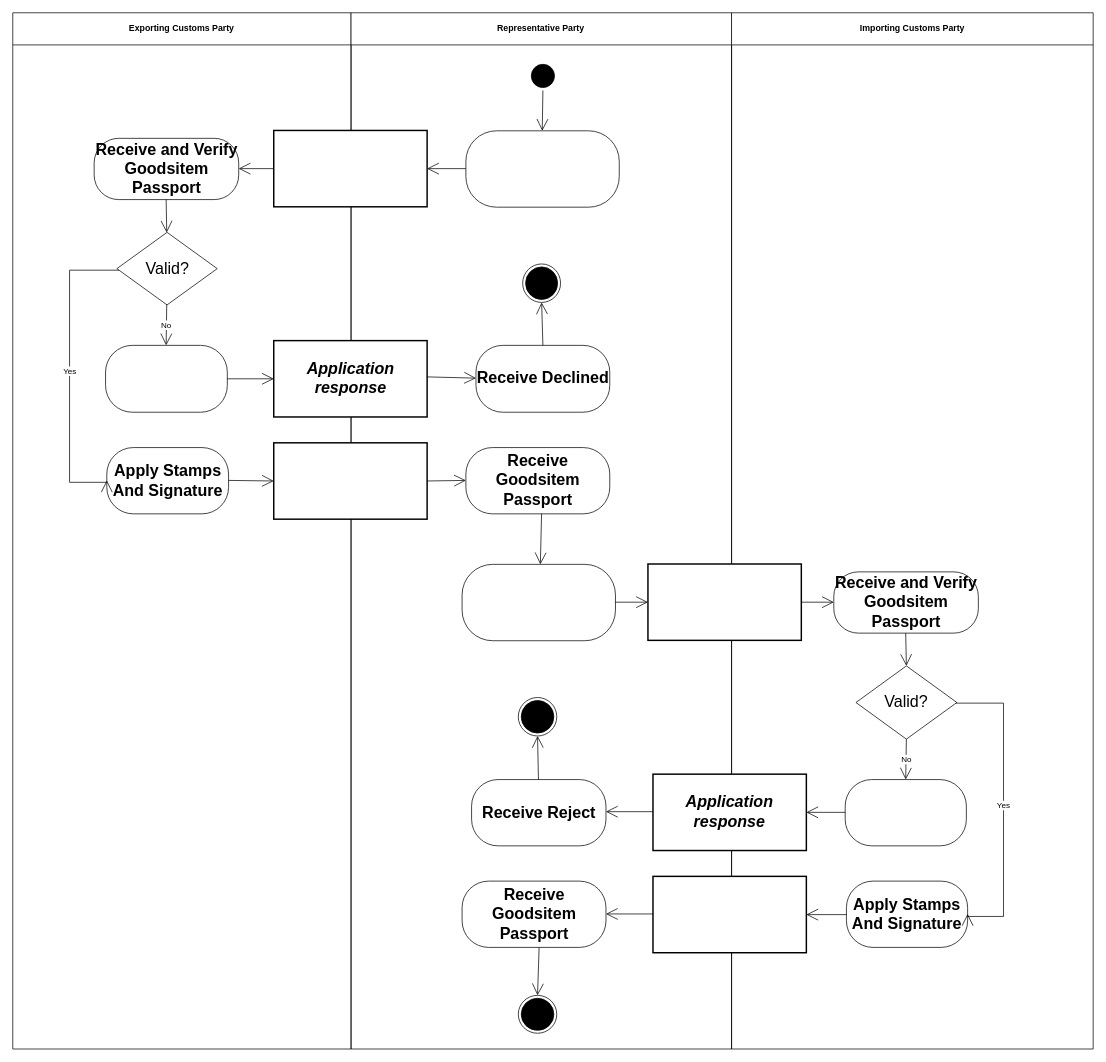
Some shapes in this 1106 by 1062 pixel diagram are drawn without their labels. The centre of each missing label's shape, as x and y in pixels:
Goodsitem Passport (Approved): pixel 350 168
Goodsitem Passport (Exported): pixel 724 602
Goodsitem Passport (Imported): pixel 729 914
Goodsltem Passport (Exported): pixel 350 481
Present Goods To Enter Country: pixel 538 602
Present Goods To Leave Country: pixel 542 168
Send Declined: pixel 166 378
Send Reject: pixel 905 812
